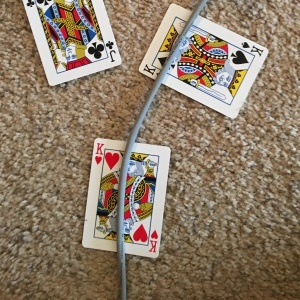card: (138, 3, 270, 120), (82, 136, 171, 259)
